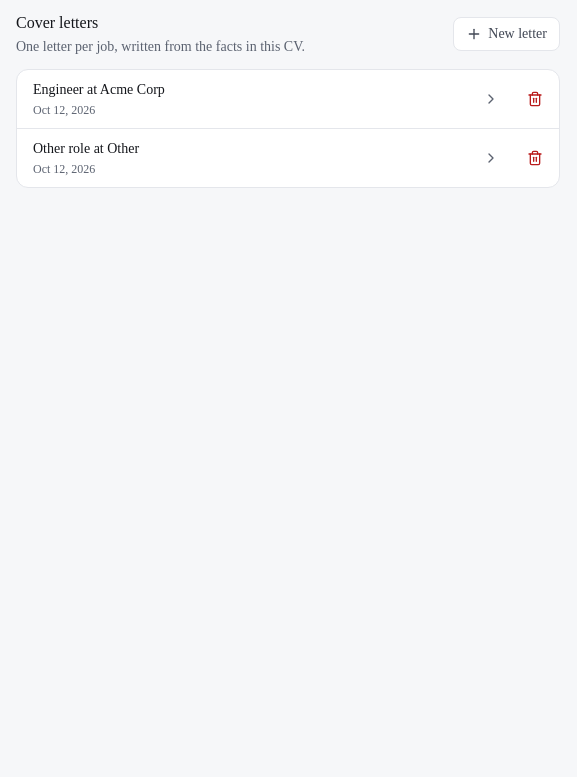
Test case: CoverLetterPanel: copy and export act on the open letter › a 409 from the export shows its message in the export error line
Click the button "Engineer at Acme Corp Oct 12, 2026" at (99, 90), box [17,70,515,128]
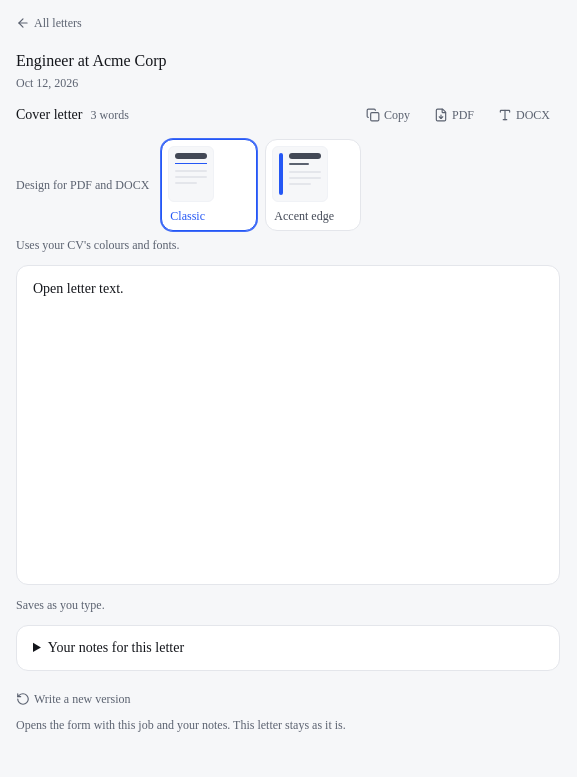
Click the button "PDF" at (454, 115), box [424,103,484,127]
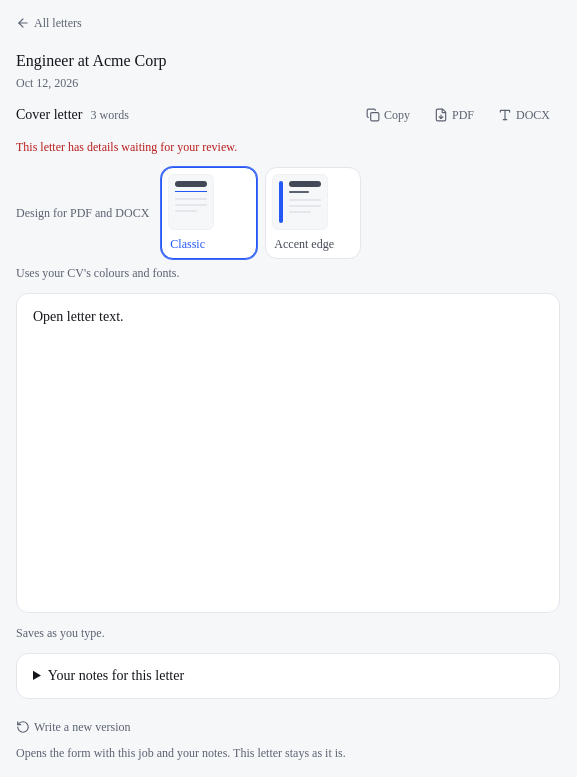
Expected: the message reads "This letter has details waiting for your review.", [16,140,237,154]
